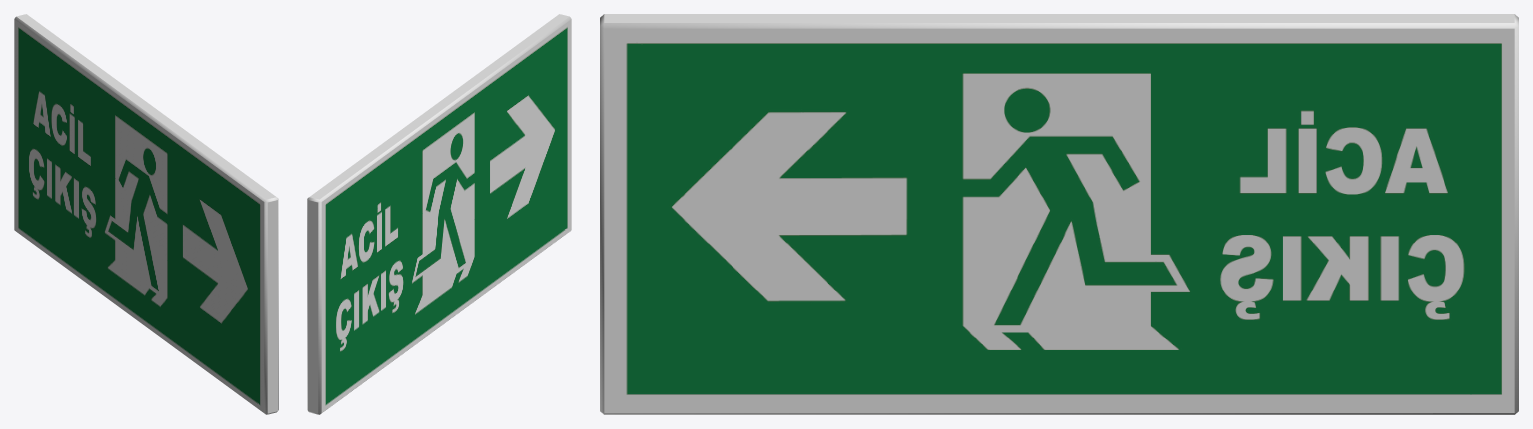
File: acilçıkıştabelasıfinal.fbx
3 views of the same model, side by side, from view 1: azimuth 30°, elevation 25°; view 2: azimuth 150°, elevation 25°; view 3: azimuth 270°, elevation 25° (orthographic). The views are drawn at different scales.
Visible parts, largest first — view 1: Cube; view 2: Cube; view 3: Cube.
Boxes of the visible parts, <box> form: Cube: <box>14,14,278,414</box>; Cube: <box>307,14,571,414</box>; Cube: <box>600,14,1518,414</box>.
Size of the model in its own units: 13.83 by 200 by 425.
